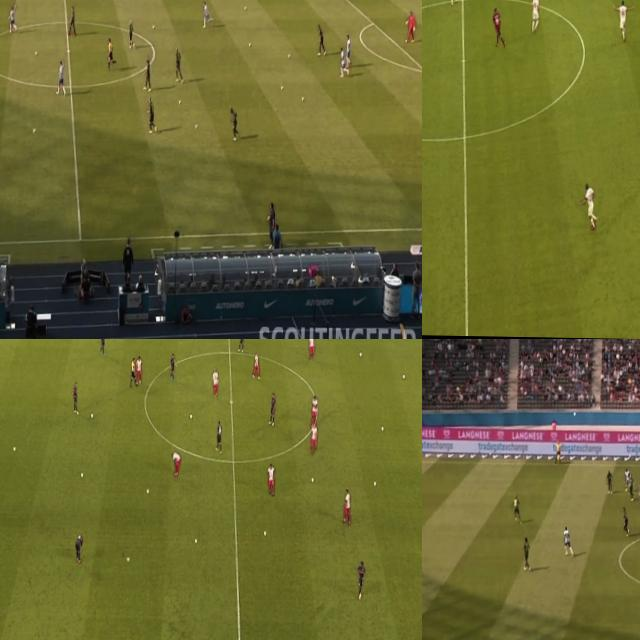ball: (372, 477, 377, 489), (401, 372, 406, 382), (380, 424, 386, 432), (145, 486, 149, 496), (126, 554, 130, 564), (12, 443, 16, 452), (80, 469, 84, 478), (357, 351, 362, 358), (190, 411, 193, 421), (279, 84, 283, 90), (195, 537, 198, 545), (262, 530, 266, 536), (572, 411, 576, 417), (248, 39, 251, 45), (32, 128, 36, 132), (302, 96, 305, 101), (312, 478, 314, 485), (34, 49, 36, 55), (178, 98, 180, 104), (195, 123, 198, 127), (90, 412, 92, 418), (244, 3, 246, 8), (152, 24, 154, 28), (287, 53, 289, 56)
player: (583, 181, 598, 233), (492, 6, 508, 49), (617, 0, 628, 43), (511, 494, 524, 526), (228, 106, 240, 140), (142, 58, 154, 92), (147, 96, 156, 136), (530, 0, 540, 36), (562, 524, 574, 554), (522, 534, 532, 570), (6, 1, 18, 30), (267, 462, 277, 496), (343, 489, 352, 524), (338, 48, 349, 76), (357, 559, 364, 603), (57, 61, 66, 95), (406, 12, 416, 42), (604, 466, 614, 496), (68, 5, 77, 38), (174, 48, 182, 84), (317, 24, 326, 54), (171, 450, 181, 476), (210, 367, 218, 399), (72, 382, 80, 414), (76, 534, 84, 564), (269, 392, 276, 426), (216, 421, 223, 455), (310, 395, 317, 427), (253, 352, 260, 384), (168, 354, 176, 382), (622, 502, 629, 532), (128, 18, 135, 46), (204, 3, 212, 27), (310, 424, 316, 454), (628, 471, 634, 499), (624, 465, 630, 493), (346, 34, 350, 64), (308, 339, 314, 359), (100, 339, 106, 353), (238, 339, 244, 352), (638, 474, 640, 500)
